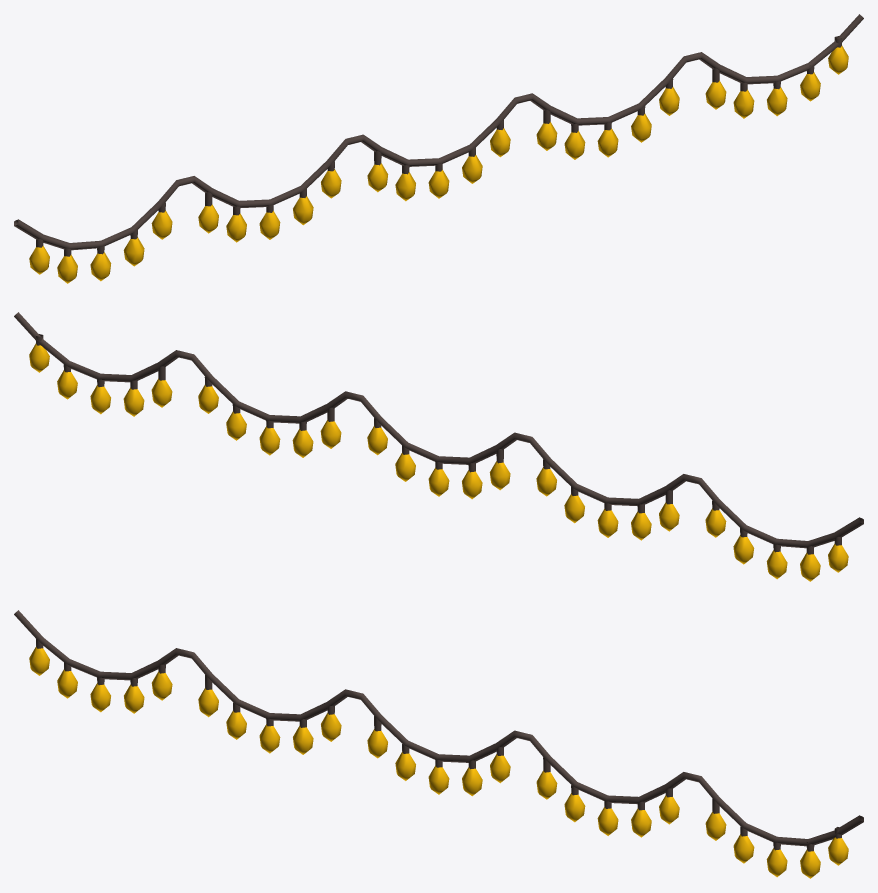
File: Garland_001.fbx
The picture shows the model from 3 angles, top to bottom: view 1: azimuth 30°, elevation 25°; view 2: azimuth 150°, elevation 25°; view 3: azimuth 330°, elevation 25°; orthographic projection.
Visible parts, largest first — view 1: Garland_001; view 2: Garland_001; view 3: Garland_001.
Part boxes in pixels (x1,y1,x2,y2): Garland_001: (14,14,863,283); Garland_001: (14,312,863,581); Garland_001: (14,610,863,878).
Bounding box in the file's own units: 569 × 11.48 × 53.06.
